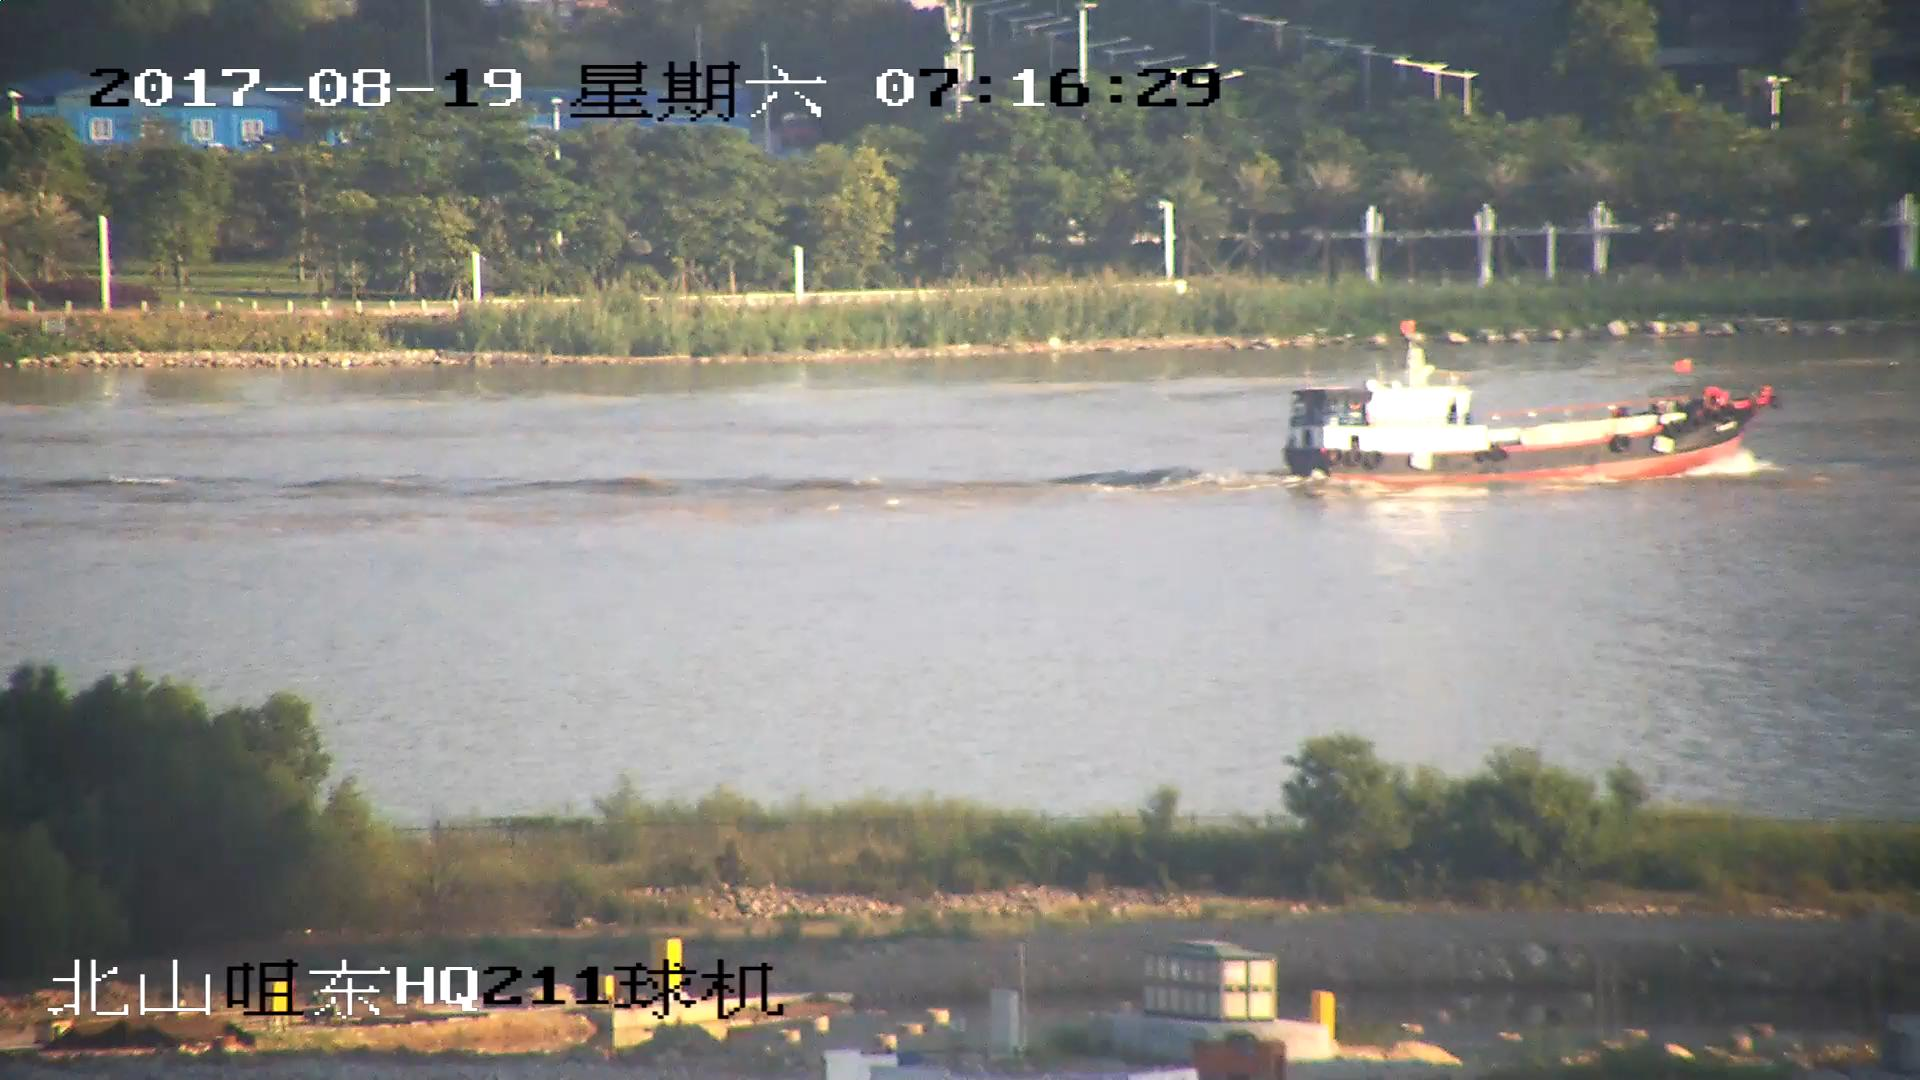fishing boat: (1292, 336, 1782, 494)
